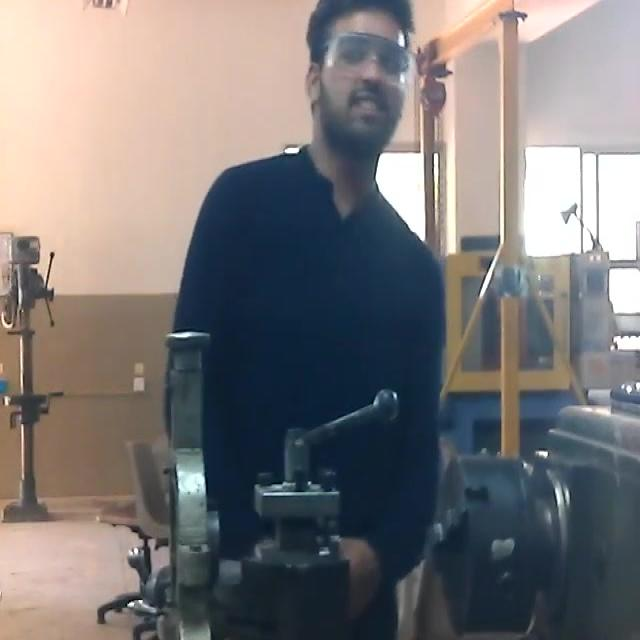googles: (328, 27, 408, 82)
